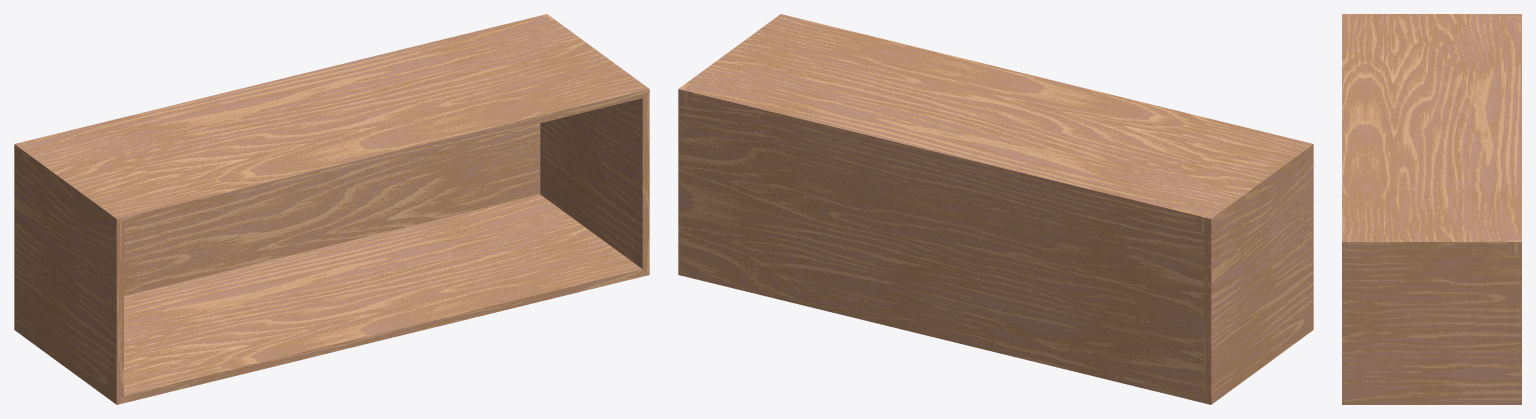
Rendered from Hylly_007-transformed.glb.
3 views of the same model, side by side, from view 1: azimuth 30°, elevation 25°; view 2: azimuth 150°, elevation 25°; view 3: azimuth 270°, elevation 25° (orthographic). The views are drawn at different scales.
Visible parts, largest first — view 1: Pohja; view 2: Pohja; view 3: Pohja, attach_right.
Boxes of the visible parts, <box> form: Pohja: <box>14,14,649,404</box>; Pohja: <box>678,14,1313,404</box>; Pohja: <box>1342,14,1521,404</box>; attach_right: <box>1507,236,1521,254</box>.
Size of the model in its own units: 0.75 by 0.25 by 0.25.
1 material, 1 textured.
